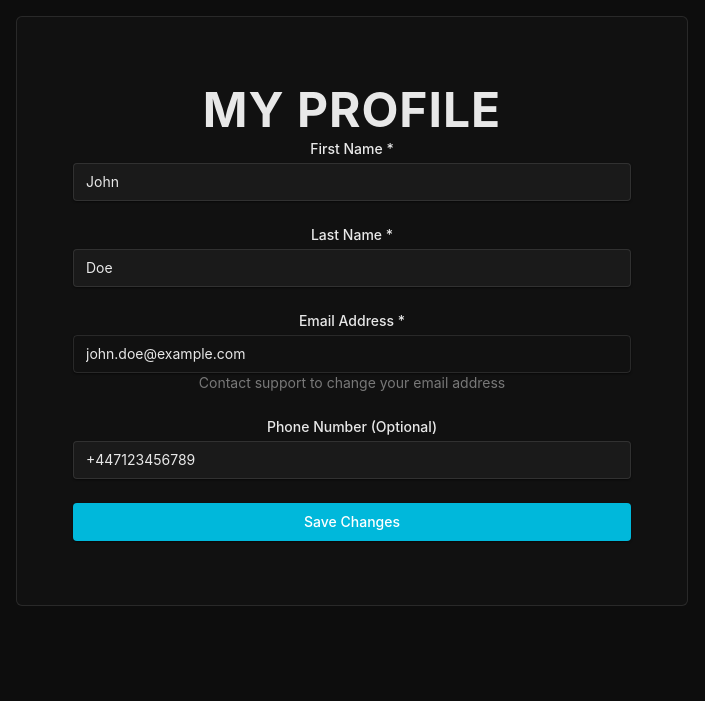
Test: MyProfilePage › Form Submission › should show success message after successful update
The image size is (705, 701).
Type "Jane" into the field labelled "First Name *". click: coordinates (352, 182)
box: left=73, top=163, right=631, bottom=201
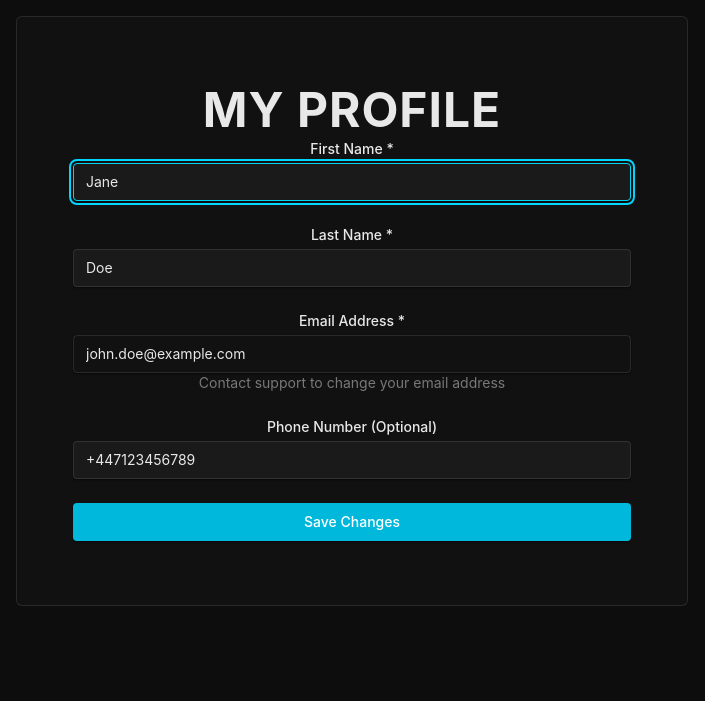
Click the button "Save Changes". click: coordinates (352, 522)
box: left=73, top=503, right=631, bottom=541
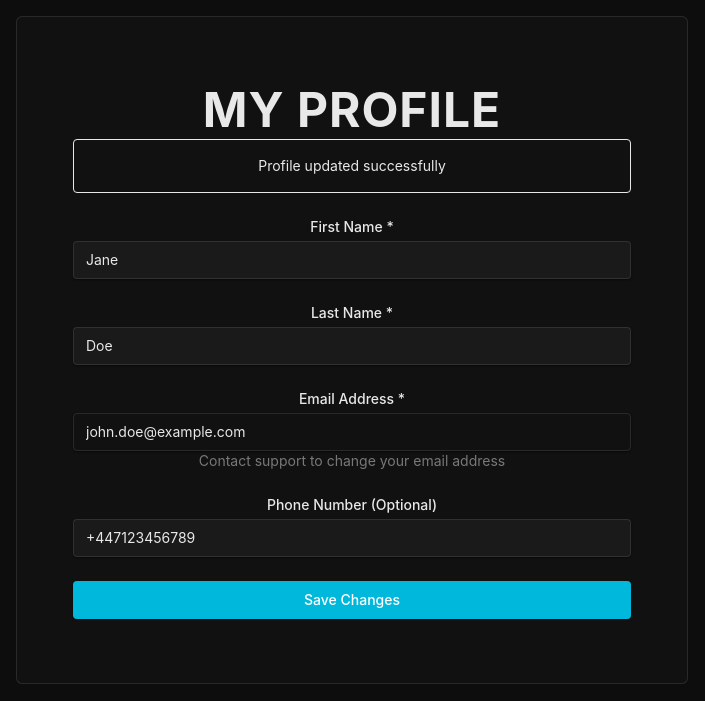
Expected: the text "Profile updated successfully" is shown, left=258, top=157, right=446, bottom=174
